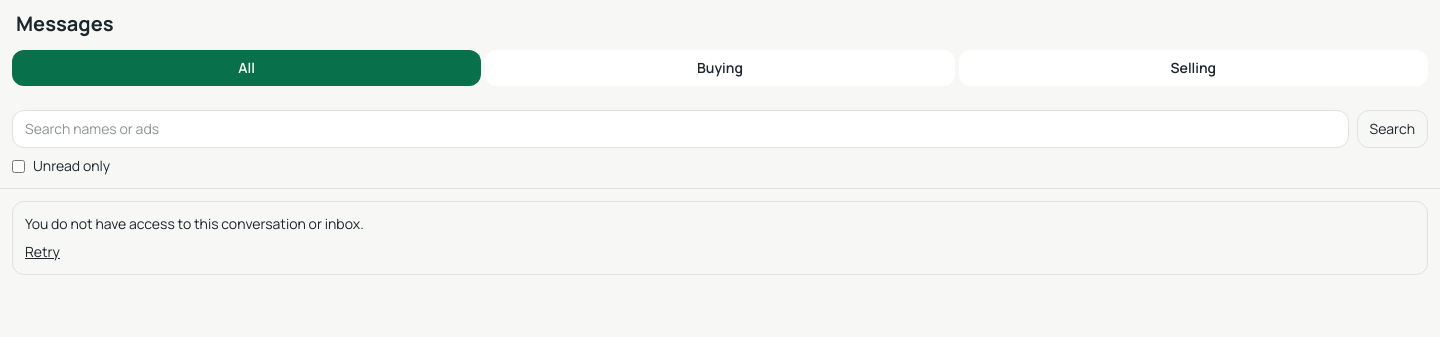
it: shows an explicit authorization error and retry state
The width and height of the screenshot is (1440, 337).
expect the message shows "do not have access": met, box [25,214,364,233]
Click the button "Retry" at (42, 252), box [25,242,60,262]
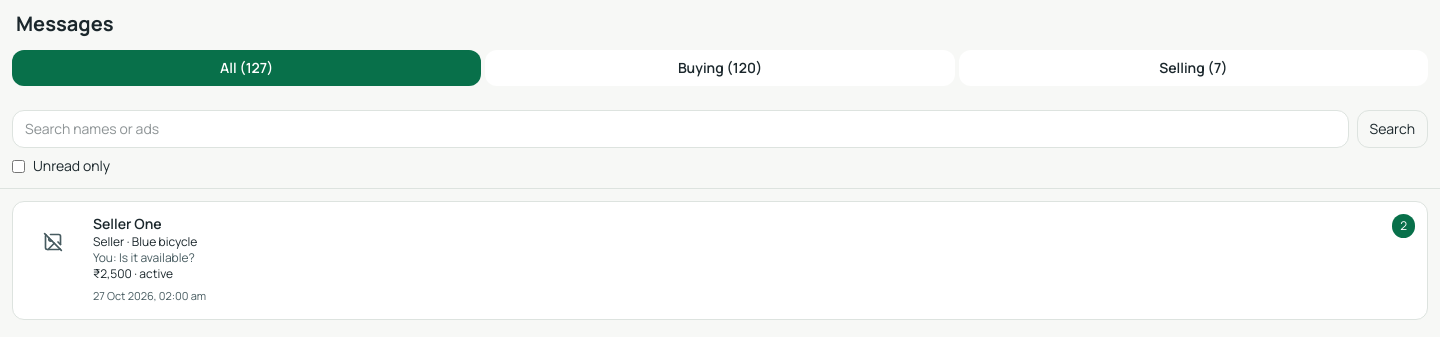
expect the link "All (127)" is shown: met, box [12,50,481,86]
